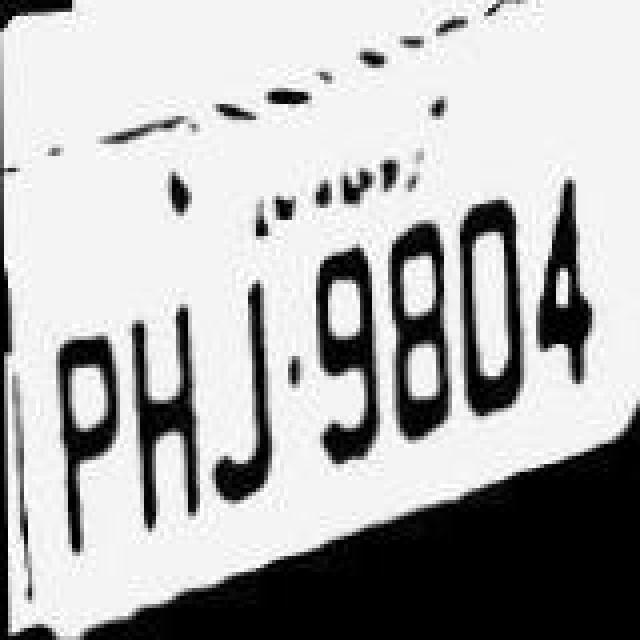4: (524, 154, 604, 418)
8: (378, 212, 454, 484)
9: (302, 232, 378, 512)
H: (124, 258, 204, 530)
J: (202, 258, 278, 522)
O: (454, 164, 530, 440)
P: (42, 258, 126, 526)
